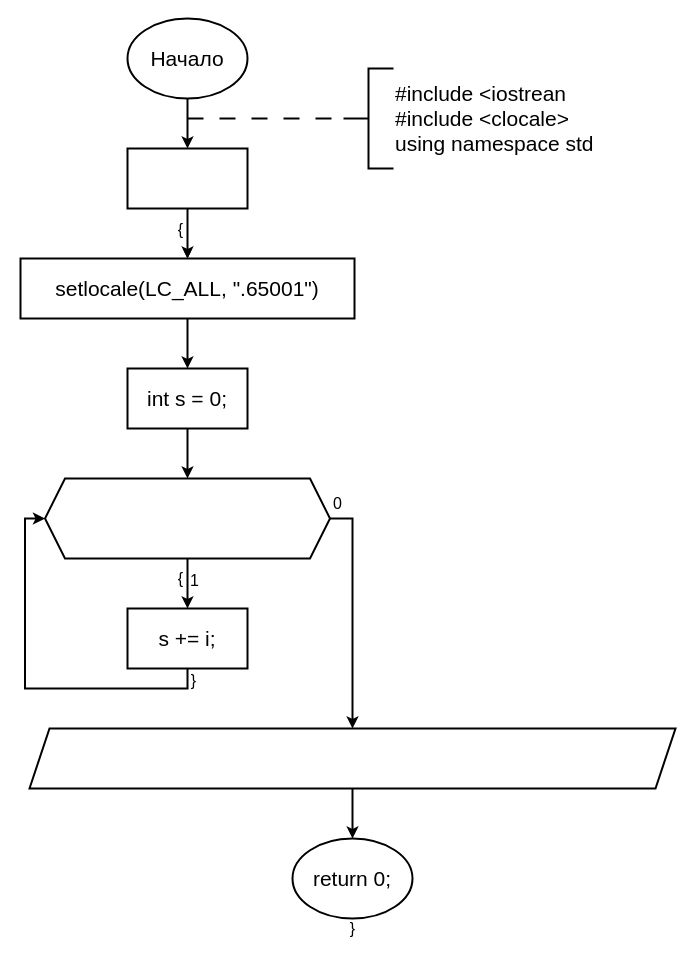
The diagram is 694 pixels wide and 955 high, and some of its shapes have lost their labels. Each missing label, with the centre of its shape:
cout << "C умма чисел, кратных 3 и меньших 200 = " << s << endl;: [352,758]
for (int i = 3; i < 200; i += 3): [187,518]
int main(): [187,178]
